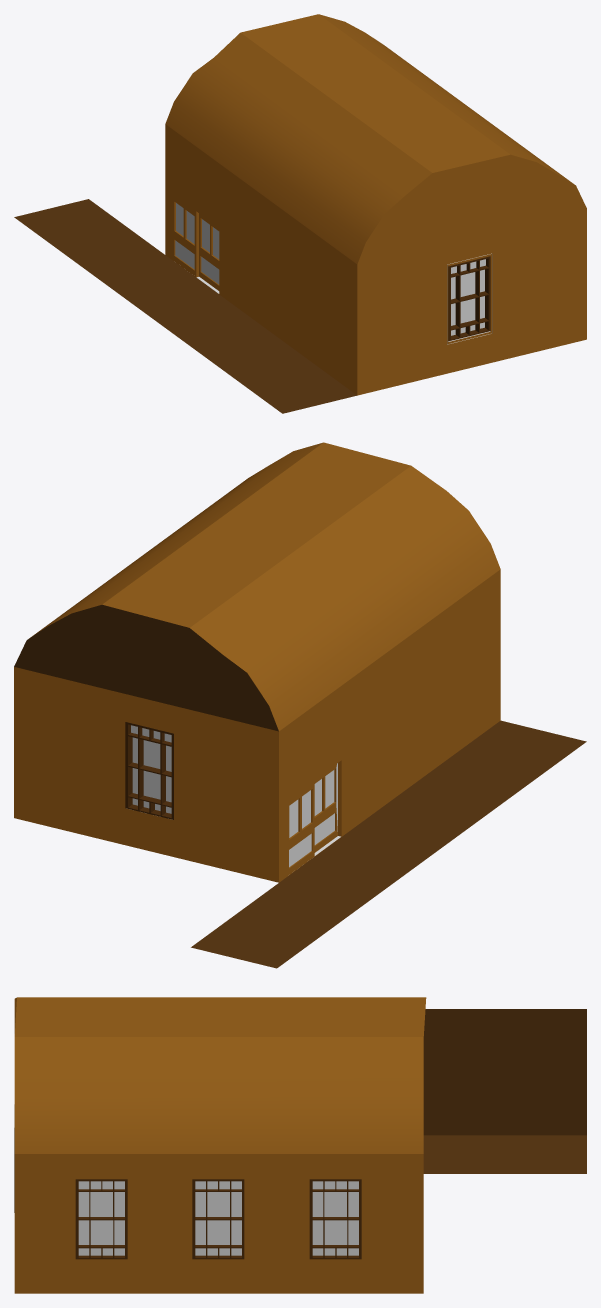
The model's file is 貴賓室ver2.fbx.
The picture shows the model from 3 angles, top to bottom: view 1: azimuth 30°, elevation 25°; view 2: azimuth 150°, elevation 25°; view 3: azimuth 270°, elevation 25°; orthographic projection. The views are drawn at different scales.
Parts seen in each view (by area): view 1: 平面, 立方体.004, 立方体.002, 立方体.012, 立方体.013, 立方体.003; view 2: 平面, 立方体, 立方体.011, 立方体.002, 立方体.012, 立方体.013, 立方体.003; view 3: 平面, 立方体.008, 立方体.009, 立方体.010.
Boxes of the visible parts, x1,y1,x2,y2 form: 平面: (14,14,586,413); 立方体.004: (447,253,492,344); 立方体.002: (173,194,198,277); 立方体.012: (175,203,194,269); 立方体.013: (201,219,219,284); 立方体.003: (199,213,219,290); 平面: (14,442,586,968); 立方体: (125,722,173,819); 立方体.011: (131,725,171,813); 立方体.002: (287,780,314,875); 立方体.012: (289,790,311,867); 立方体.013: (314,770,334,844); 立方体.003: (314,764,337,852); 平面: (14,997,586,1293); 立方体.008: (192,1179,244,1259); 立方体.009: (75,1179,127,1259); 立方体.010: (309,1179,361,1259).
Bounding box in the file's own units: 9911 × 6339 × 15164.
